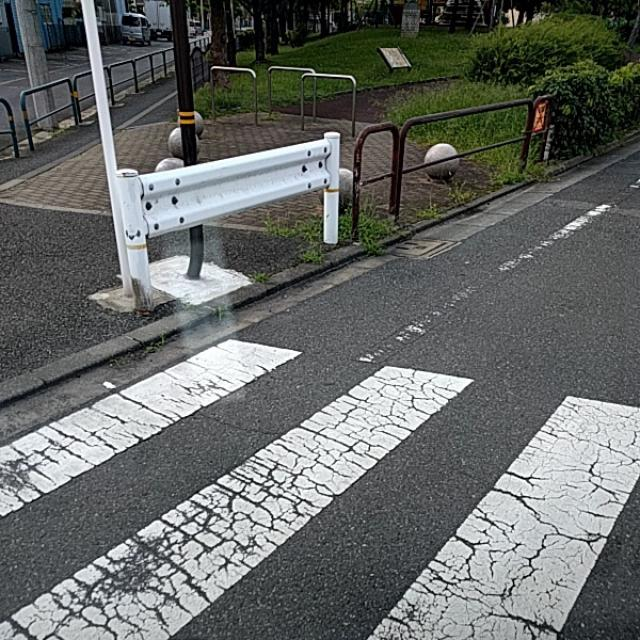pothole: (92, 512, 562, 639)
